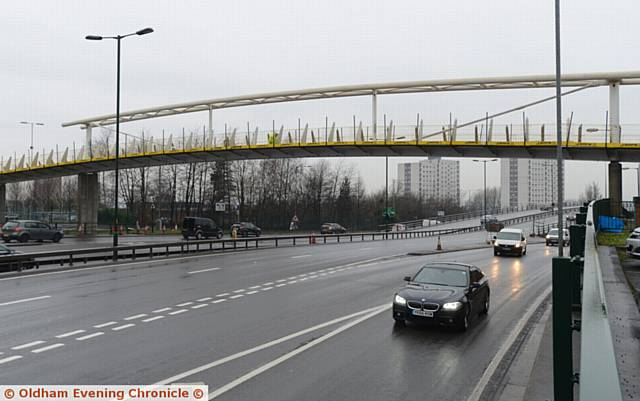bridge: (2, 73, 640, 229)
